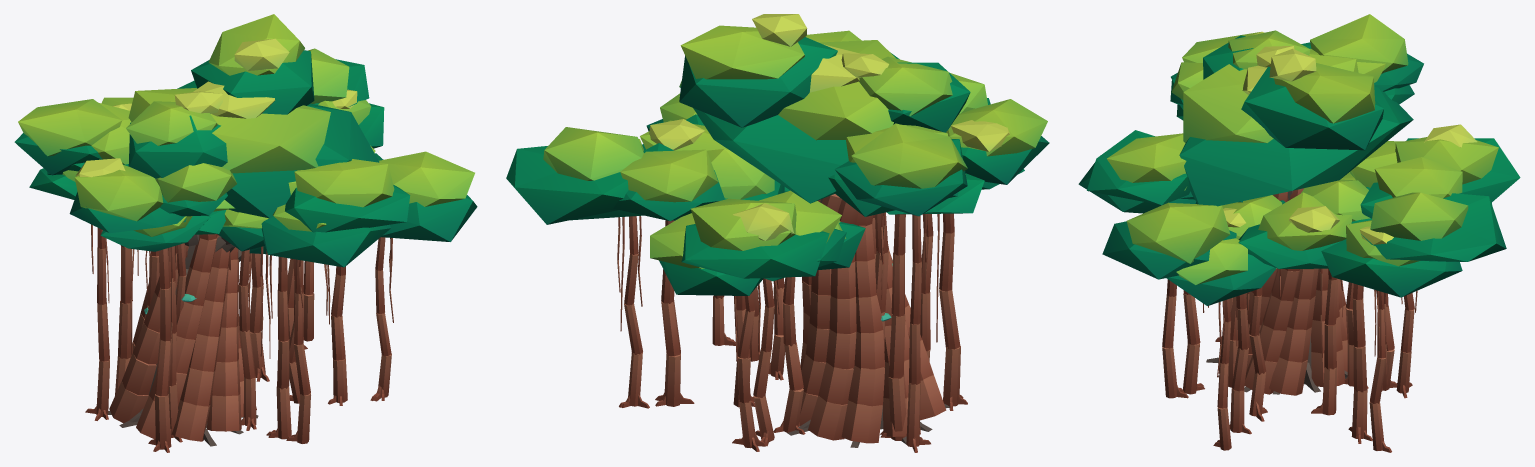
File: grove_tree_b.glb
3 renders of one model, left to right at view 1: azimuth 30°, elevation 25°; view 2: azimuth 150°, elevation 25°; view 3: azimuth 270°, elevation 25°, orthographic. The views are drawn at different scales.
Visible parts, largest first — view 1: grove_tree_b; view 2: grove_tree_b; view 3: grove_tree_b.
Boxes of the visible parts, x1,y1,x2,y2 form: grove_tree_b: [14, 14, 477, 452]; grove_tree_b: [506, 14, 1049, 452]; grove_tree_b: [1078, 14, 1520, 452].
Size of the model in its own units: 31.15 by 27.8 by 31.36.
1 material, 1 textured.
